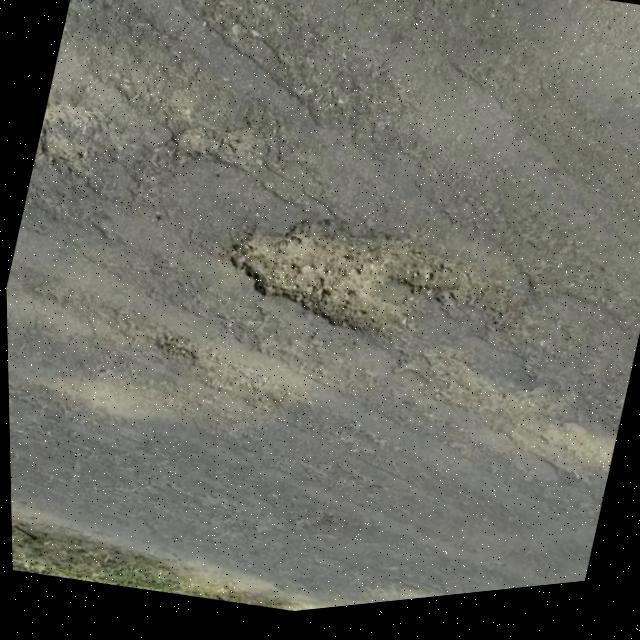Pothole: (211, 191, 486, 383)
